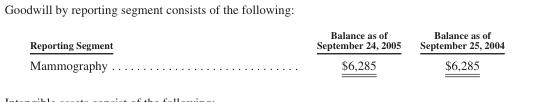table: (28, 28, 503, 71)
table column: (214, 28, 409, 71), (28, 28, 214, 71), (409, 28, 503, 71)
table column header: (28, 28, 503, 53)
table row: (28, 28, 503, 53), (28, 53, 503, 71)
